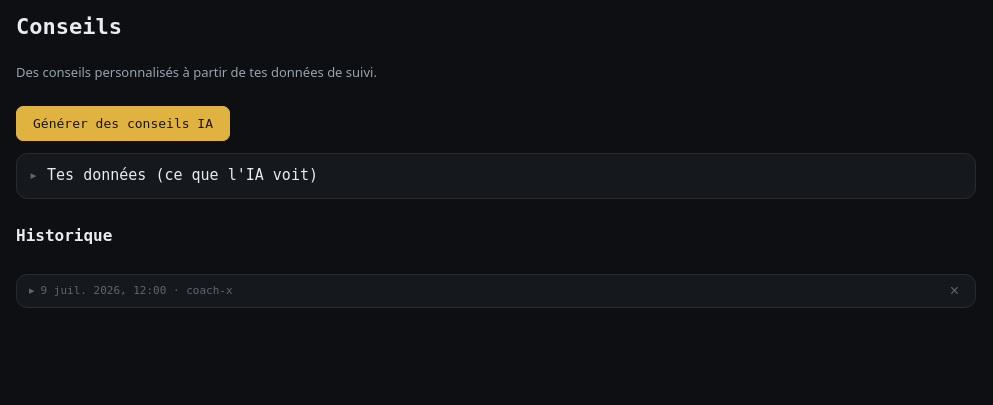
AdvicesPage — delete confirm & archive collapse (B-213/B-214) › expands only the just-generated advice, keeping older ones collapsed (B-214)
This screenshot has width=993, height=405.
Expected: the number of buttons named "Supprimer" is 1, top-left (946, 283), bottom-right (963, 299)
Click the button "Générer des conseils IA" at (123, 124), box top-left (16, 106), bottom-right (230, 141)
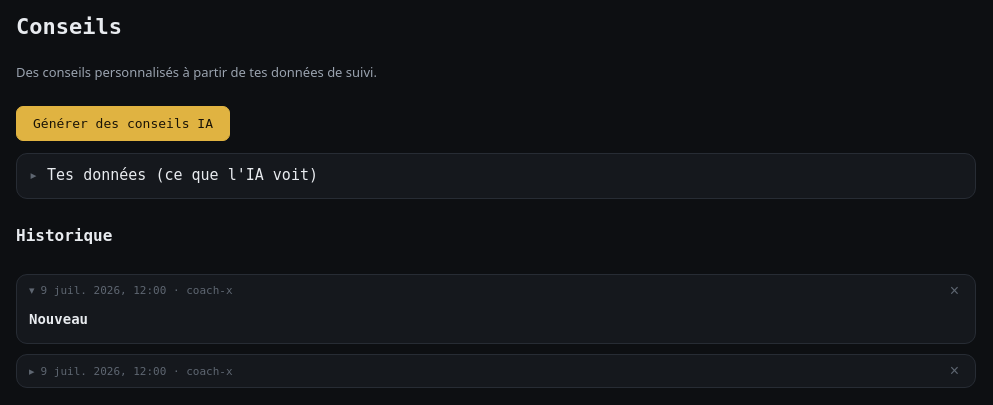
Now the heading "Nouveau" is shown, box top-left (29, 311), bottom-right (88, 327)
